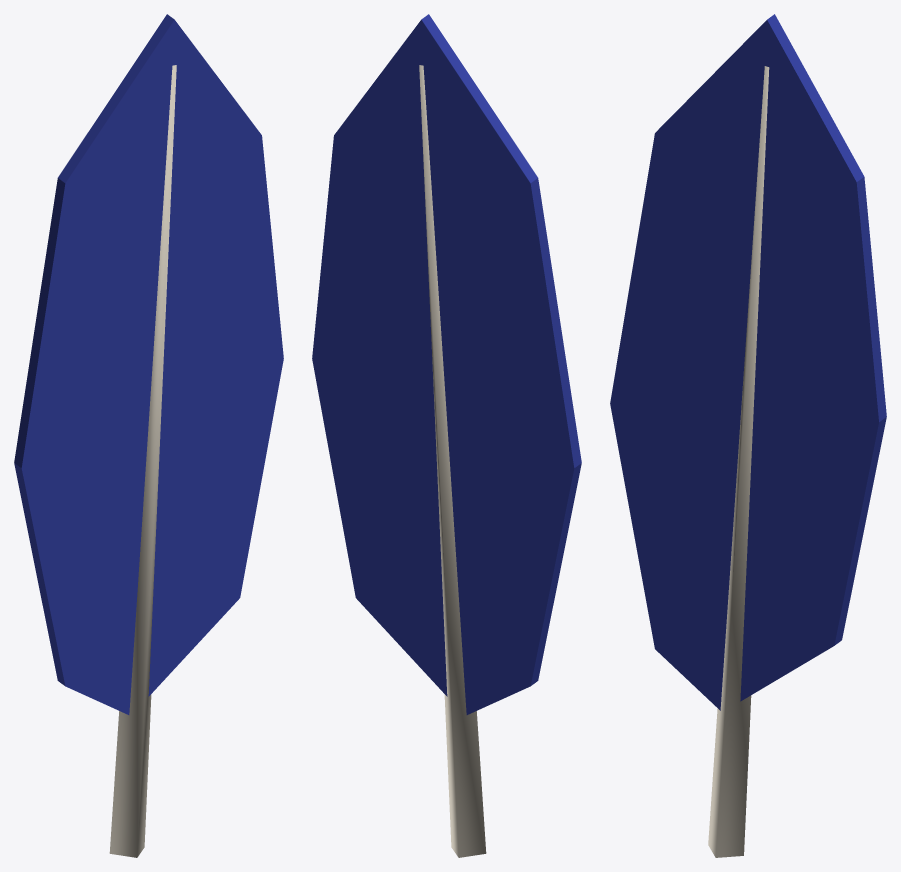
File: star_cloak.glb
The picture shows the model from 3 angles, left to right: view 1: azimuth 30°, elevation 25°; view 2: azimuth 150°, elevation 25°; view 3: azimuth 330°, elevation 25°; orthographic projection. The views are drawn at different scales.
Visible parts, largest first — view 1: star_cloak_v0; view 2: star_cloak_v0; view 3: star_cloak_v0.
Part boxes in pixels (bbox=[...]): star_cloak_v0: bbox=[14, 14, 283, 857]; star_cloak_v0: bbox=[312, 14, 581, 857]; star_cloak_v0: bbox=[610, 14, 886, 857].
Size of the model in its own units: 0.12 by 0.3605 by 0.016.
